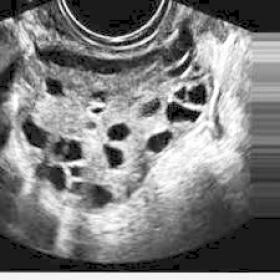PCOS: (77, 184, 116, 207), (144, 130, 175, 157), (181, 79, 214, 104), (169, 99, 197, 128), (42, 161, 68, 192), (27, 118, 51, 151), (0, 57, 18, 95), (59, 136, 82, 162), (102, 141, 123, 165), (136, 104, 165, 117), (0, 120, 12, 150), (173, 90, 193, 108), (44, 81, 65, 98), (84, 114, 100, 136), (109, 126, 127, 144), (91, 102, 107, 116), (72, 162, 82, 180), (92, 91, 110, 100)
